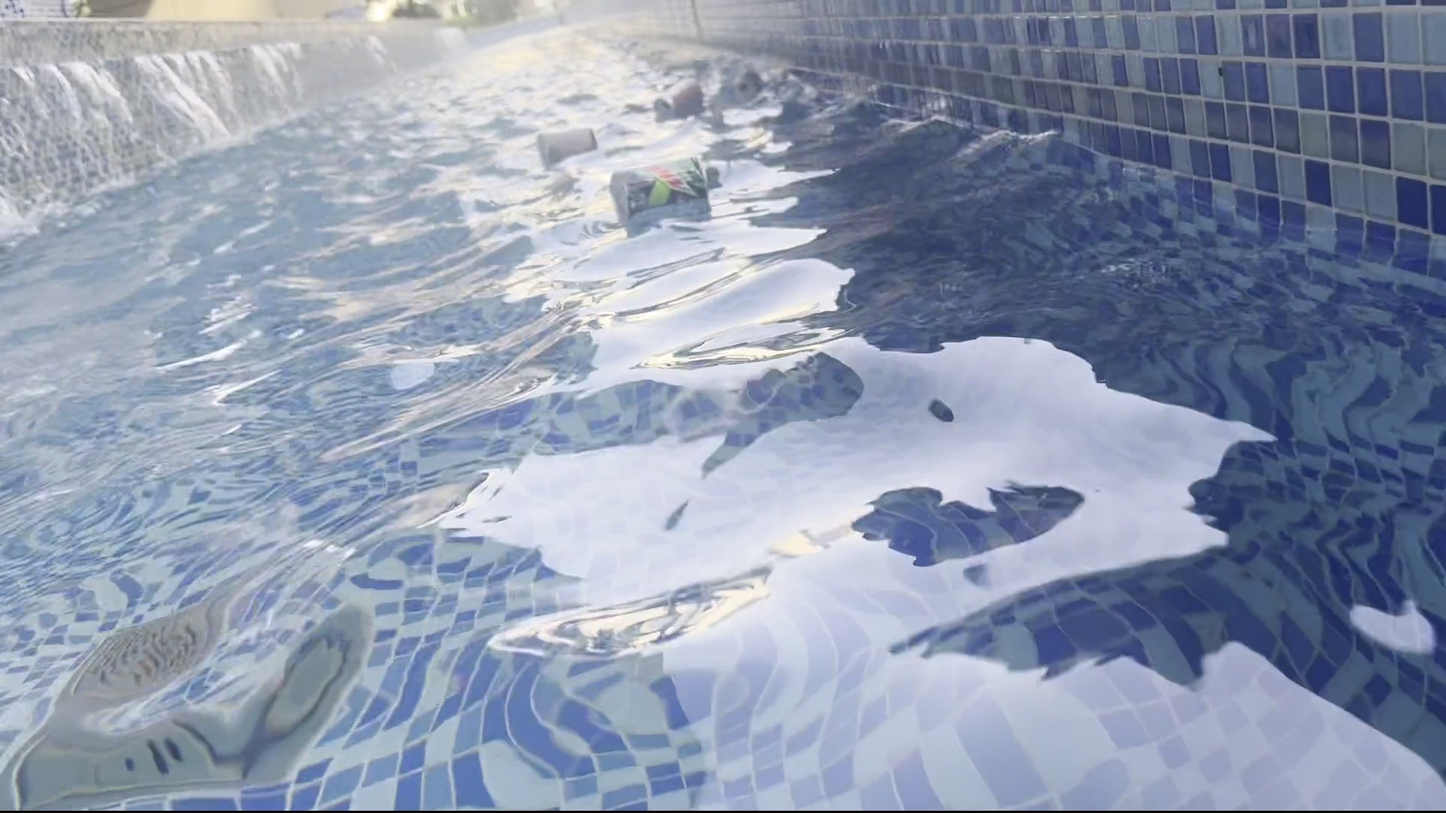debris: (599, 156, 716, 218), (532, 122, 602, 163), (650, 73, 707, 122), (729, 63, 765, 103)
